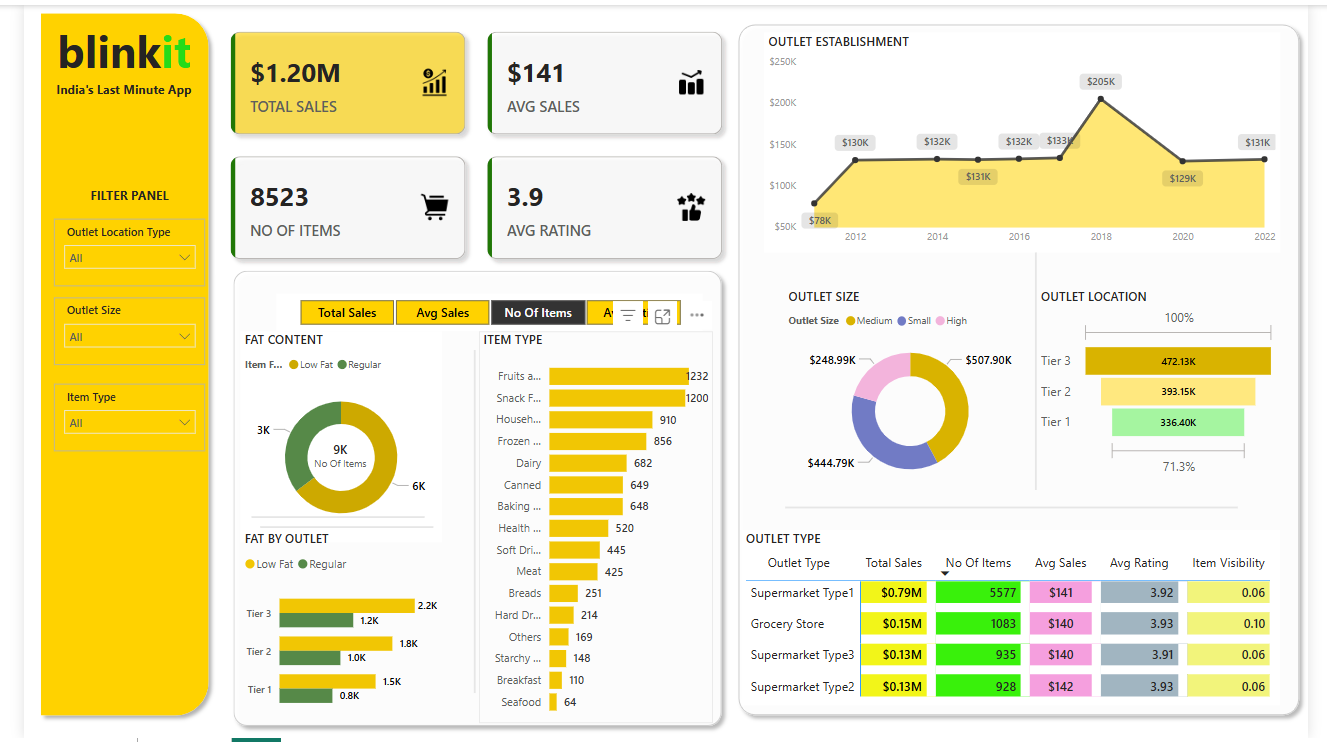

Layout of this report page (visuals, bound fields, positions):
{"tool":"powerbi","page":{"name":"Page 1","canvas":[1400,800],"ordinal":0},"visuals":[{"type":"shape","box":[9.4,0,201.1,784.2],"z":0},{"type":"textbox","box":[21,12,177.1,82.5],"z":1000},{"type":"textbox","box":[21,78,177.1,33],"z":2000},{"type":"cardVisual","fields":{"Data":["BlinkIT Grocery Data.Total Sales","BlinkIT Grocery Data.Avg Sales","BlinkIT Grocery Data.No Of Items","BlinkIT Grocery Data.Avg Rating"]},"box":[208.9,12.5,570.6,282.2],"z":3000},{"type":"shape","box":[219.8,280.6,550.3,514.5],"z":4000},{"type":"donutChart","title":"FAT CONTENT","fields":{"Y":["BlinkIT Grocery Data.No Of Items"],"Category":["BlinkIT Grocery Data.Item Fat Content"]},"box":[235.4,355.5,219.8,230.7],"z":5000},{"type":"slicer","fields":{"Values":["Metric.Metric"]},"box":[275.9,314.9,464.6,40.5],"z":6000},{"type":"cardVisual","fields":{"Data":["BlinkIT Grocery Data.No Of Items"]},"box":[294.7,452.1,101.3,76.4],"z":7000},{"type":"clusteredBarChart","title":"FAT BY OUTLET","fields":{"Y":["BlinkIT Grocery Data.No Of Items"],"Series":["BlinkIT Grocery Data.Item Fat Content"],"Category":["BlinkIT Grocery Data.Outlet Location Type"]},"box":[235.4,572.2,219.8,212],"z":8000},{"type":"shape","box":[247.9,545.7,188.6,26.5],"z":9000},{"type":"shape","box":[257.9,555.7,188.6,26.5],"z":10000},{"type":"shape","box":[473.9,375.7,34.3,374.2],"z":11000},{"type":"barChart","title":"ITEM TYPE","fields":{"Y":["BlinkIT Grocery Data.No Of Items"],"Category":["BlinkIT Grocery Data.Item Type"]},"box":[495.8,355.5,255.7,428.7],"z":12000},{"type":"shape","box":[770.3,12.3,629.9,771.6],"z":13000},{"type":"lineChart","title":"OUTLET ESTABLISHMENT","fields":{"Category":["BlinkIT Grocery Data.Outlet Establishment Year"],"Y":["BlinkIT Grocery Data.Total Sales"]},"box":[807.1,30,563.1,239.9],"z":14000},{"type":"donutChart","title":"OUTLET SIZE","fields":{"Y":["BlinkIT Grocery Data.Total Sales"],"Category":["BlinkIT Grocery Data.Outlet Size"]},"box":[828.9,308.1,275,225],"z":15000},{"type":"shape","box":[1086.6,269.9,34.1,259],"z":16000},{"type":"funnel","title":"OUTLET LOCATION","fields":{"Y":["Sum(BlinkIT Grocery Data.Sales)"],"Category":["BlinkIT Grocery Data.Outlet Location Type"]},"box":[1104.3,308.1,265.9,210],"z":17000},{"type":"pivotTable","title":"OUTLET TYPE","fields":{"Rows":["BlinkIT Grocery Data.Outlet Type"],"Values":["BlinkIT Grocery Data.Total Sales","BlinkIT Grocery Data.No Of Items","BlinkIT Grocery Data.Avg Sales","BlinkIT Grocery Data.Avg Rating","Avg(BlinkIT Grocery Data.Item Visibility)"]},"box":[782.6,572.6,587.6,190.9],"z":18000},{"type":"shape","box":[830.3,538.5,493.5,19.1],"z":19000},{"type":"slicer","fields":{"Values":["BlinkIT Grocery Data.Outlet Location Type"]},"box":[32.7,233.1,165,73.6],"z":20000},{"type":"slicer","fields":{"Values":["BlinkIT Grocery Data.Outlet Size"]},"box":[32.7,319,165,73.6],"z":21000},{"type":"slicer","fields":{"Values":["BlinkIT Grocery Data.Item Type"]},"box":[32.7,413.1,165,73.6],"z":22000},{"type":"textbox","box":[32.7,193.6,165,39.5],"z":23000}]}

Visuals, with their boxes in screenshot pixels (x1, y1, x2, y2), scaled from the page's 1400x800 canvas onto the 1327x742 screenshot:
shape: box(9, 0, 200, 727)
textbox: box(20, 11, 188, 88)
textbox: box(20, 72, 188, 103)
cardVisual - BlinkIT Grocery Data.Total Sales x BlinkIT Grocery Data.Avg Sales: box(198, 12, 739, 273)
shape: box(208, 260, 730, 737)
"FAT CONTENT" donutChart: box(223, 330, 431, 544)
slicer - Metric.Metric: box(262, 292, 702, 330)
cardVisual - BlinkIT Grocery Data.No Of Items: box(279, 419, 375, 490)
"FAT BY OUTLET" clusteredBarChart: box(223, 531, 431, 727)
shape: box(235, 506, 414, 531)
shape: box(244, 515, 423, 540)
shape: box(449, 348, 482, 696)
"ITEM TYPE" barChart: box(470, 330, 712, 727)
shape: box(730, 11, 1326, 727)
"OUTLET ESTABLISHMENT" lineChart: box(765, 28, 1299, 250)
"OUTLET SIZE" donutChart: box(786, 286, 1046, 494)
shape: box(1030, 250, 1062, 491)
"OUTLET LOCATION" funnel: box(1047, 286, 1299, 481)
"OUTLET TYPE" pivotTable: box(742, 531, 1299, 708)
shape: box(787, 499, 1255, 517)
slicer - BlinkIT Grocery Data.Outlet Location Type: box(31, 216, 187, 284)
slicer - BlinkIT Grocery Data.Outlet Size: box(31, 296, 187, 364)
slicer - BlinkIT Grocery Data.Item Type: box(31, 383, 187, 451)
textbox: box(31, 180, 187, 216)
